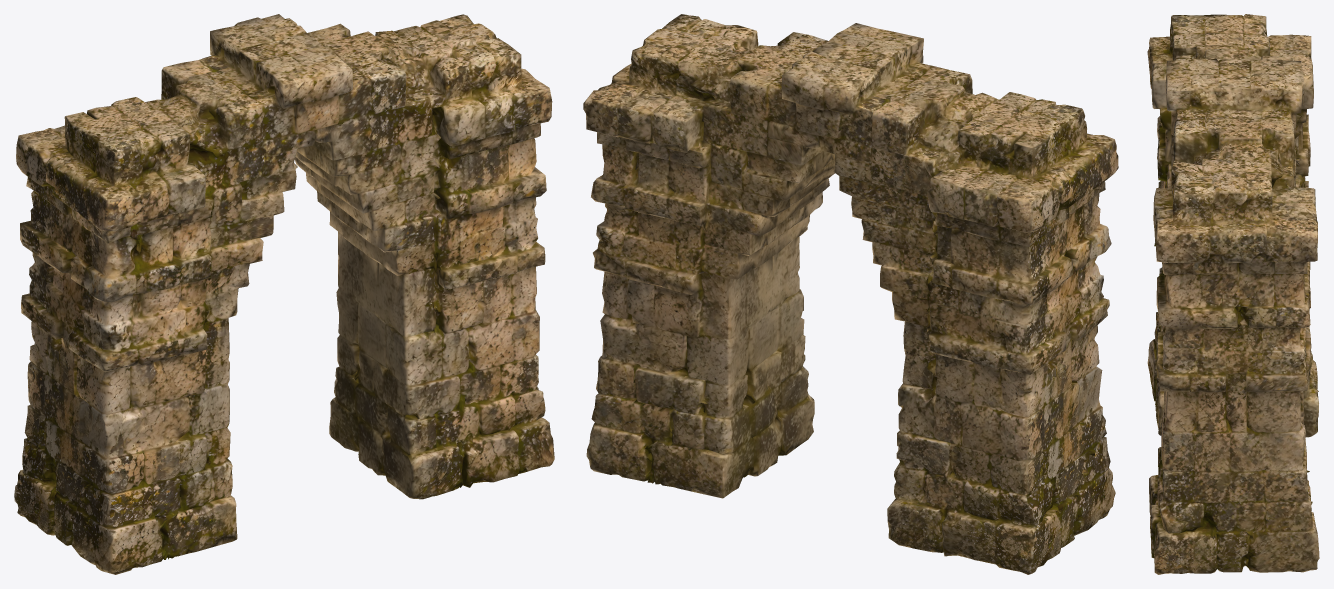
File: ARQ_ArcoMaya_01_LOD0.fbx
3 views of the same model, side by side, from view 1: azimuth 30°, elevation 25°; view 2: azimuth 150°, elevation 25°; view 3: azimuth 270°, elevation 25° (orthographic). The views are drawn at different scales.
Visible parts, largest first — view 1: ARQ_ArcoMaya_01_Mesh000; view 2: ARQ_ArcoMaya_01_Mesh000; view 3: ARQ_ArcoMaya_01_Mesh000.
Part boxes in pixels (<box>): ARQ_ArcoMaya_01_Mesh000: <box>14,14,554,574</box>; ARQ_ArcoMaya_01_Mesh000: <box>583,14,1118,574</box>; ARQ_ArcoMaya_01_Mesh000: <box>1147,14,1319,574</box>.
Bounding box in the file's own units: 4.48 × 4.2 × 1.63.
